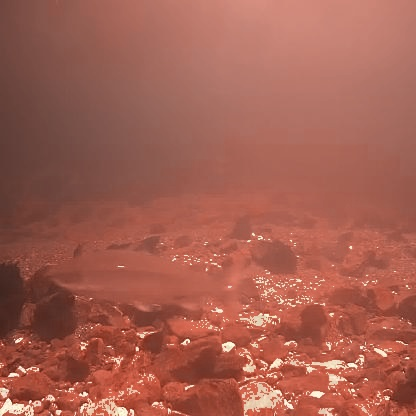salmon: (47, 239, 245, 323)
